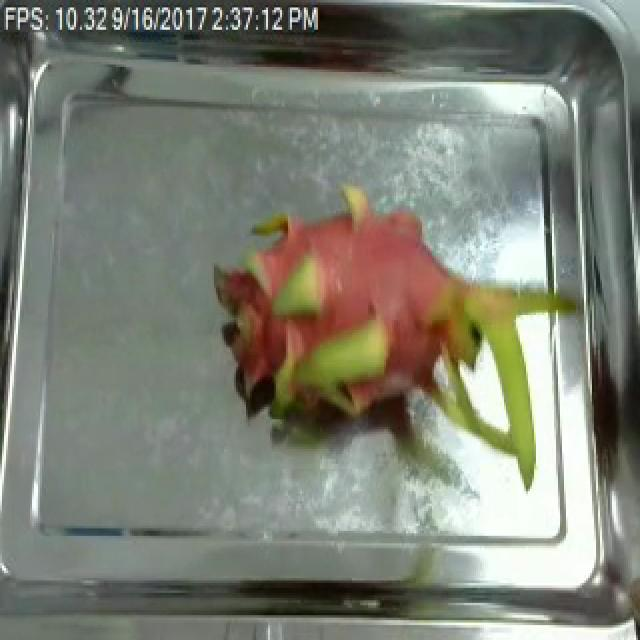fruit: (198, 144, 590, 511)
